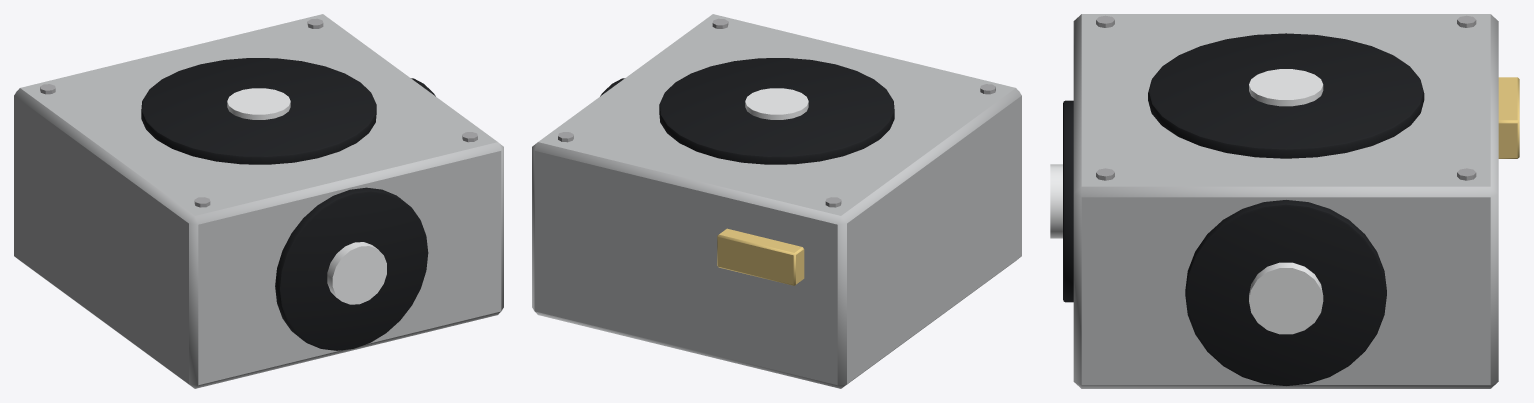
File: mod_int_adcs.glb
3 views of the same model, side by side, from view 1: azimuth 30°, elevation 25°; view 2: azimuth 150°, elevation 25°; view 3: azimuth 270°, elevation 25° (orthographic). The views are drawn at different scales.
Visible parts, largest first — view 1: mod_int_adcs; view 2: mod_int_adcs; view 3: mod_int_adcs.
Boxes of the visible parts, <box> form: mod_int_adcs: <box>14,14,503,388</box>; mod_int_adcs: <box>532,14,1021,388</box>; mod_int_adcs: <box>1050,14,1519,388</box>.
Size of the model in its own units: 0.8443 by 0.4529 by 0.8843.
